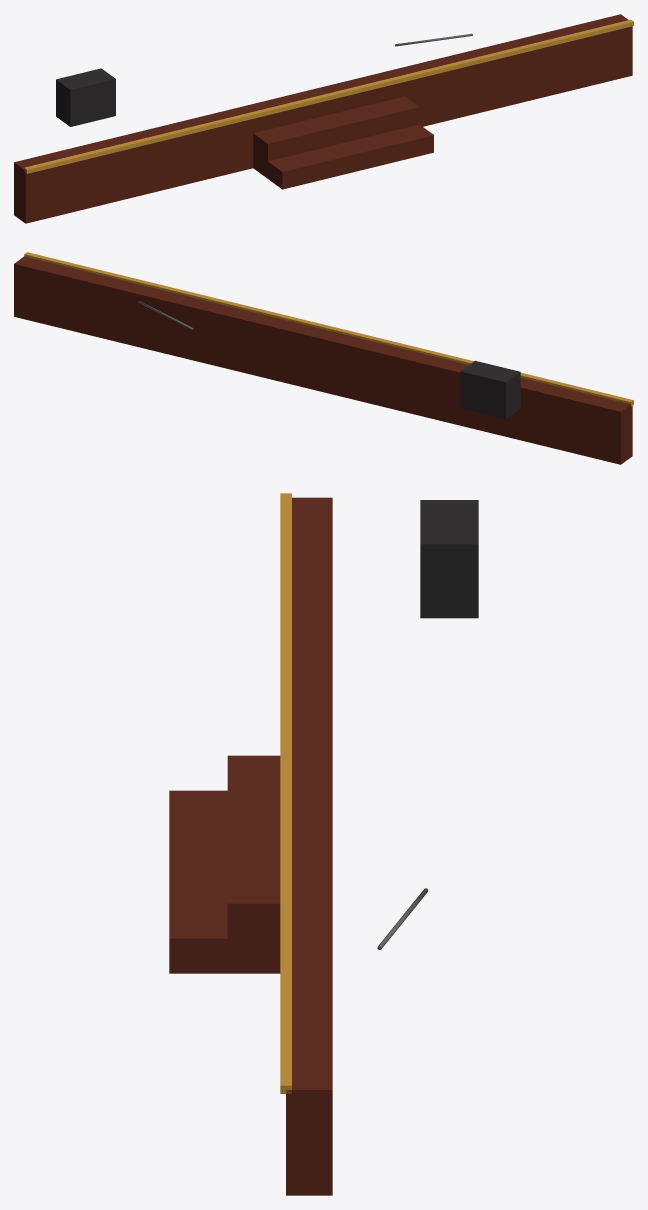
Rendered from casino_stage_steps.glb.
The picture shows the model from 3 angles, top to bottom: view 1: azimuth 30°, elevation 25°; view 2: azimuth 150°, elevation 25°; view 3: azimuth 270°, elevation 25°; orthographic projection. The views are drawn at different scales.
Parts seen in each view (by area): view 1: face, step_1, step_0, nosing, amp; view 2: face, nosing, amp; view 3: face, step_1, step_0, nosing, amp.
Part boxes in pixels (x1,y1,x2,y2): face: [14, 14, 632, 223]; step_1: [253, 96, 419, 178]; step_0: [268, 124, 433, 189]; nosing: [24, 19, 633, 173]; amp: [56, 68, 115, 126]; face: [14, 256, 632, 464]; nosing: [24, 252, 633, 406]; amp: [460, 360, 520, 419]; face: [286, 497, 332, 1195]; step_1: [227, 755, 280, 973]; step_0: [169, 790, 227, 973]; nosing: [280, 493, 291, 1093]; amp: [420, 500, 478, 618].
Bounding box in the file's own units: 12 × 1.7 × 2.65.
